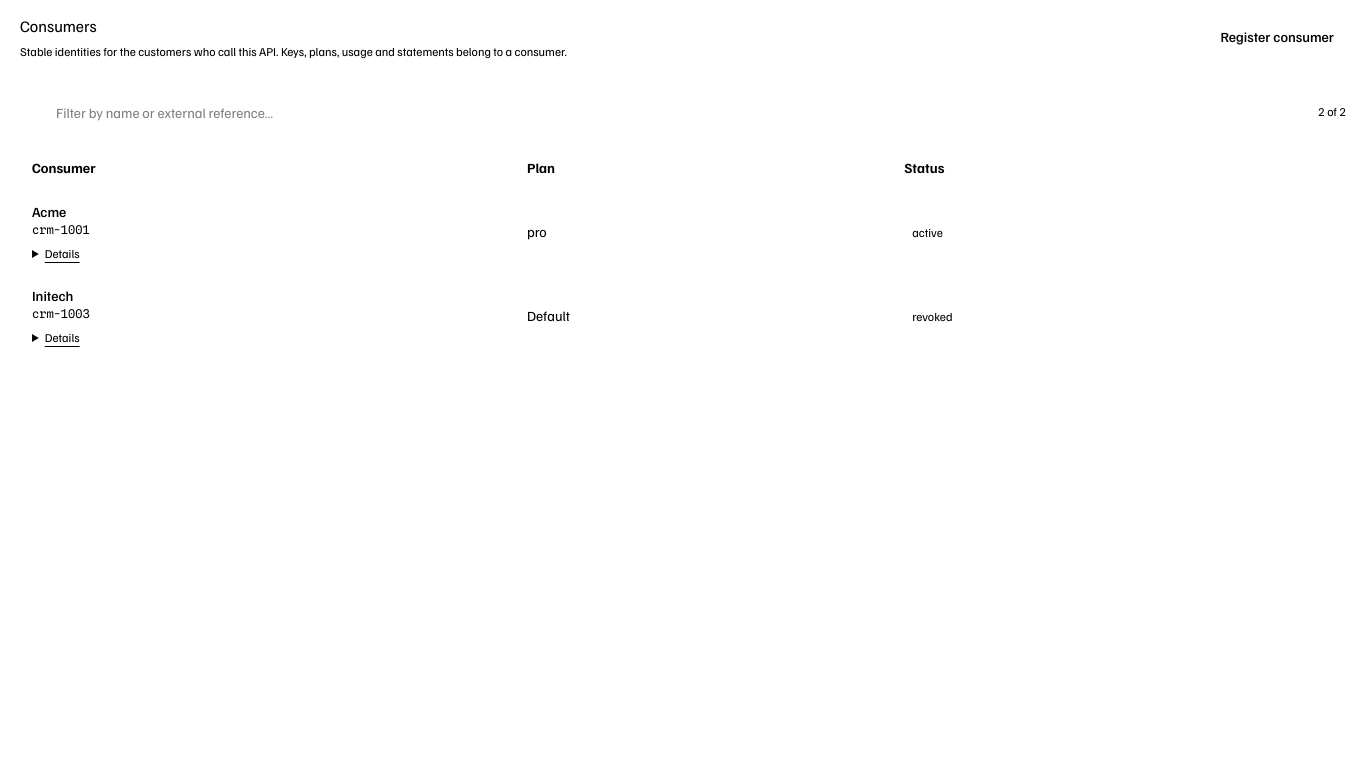
Scenario: ApiConsumers › registers a consumer and reports a duplicate reference as a conflict
Click the button "Register consumer" at (1267, 37), box [1188, 21, 1346, 53]
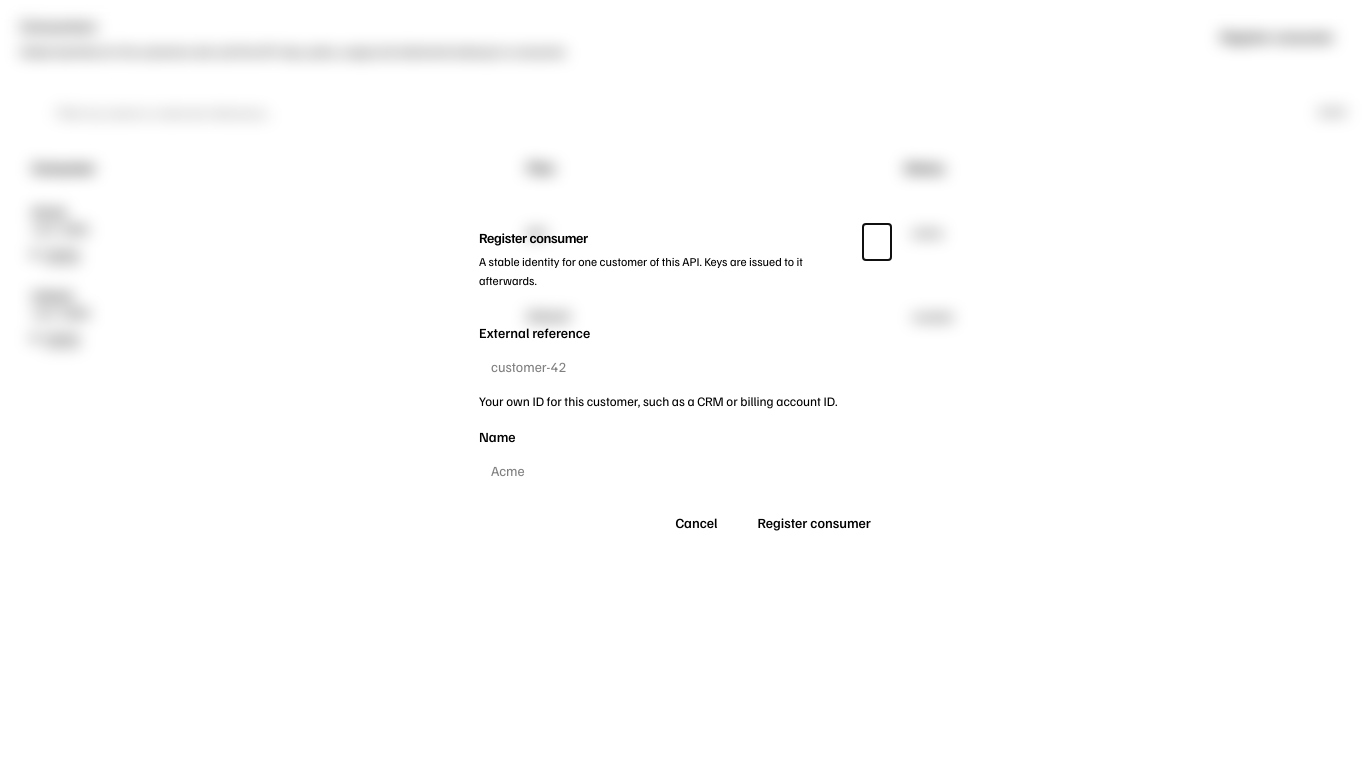
Type "crm-2000" into the field labelled "External reference" at (683, 366), box [479, 348, 887, 384]
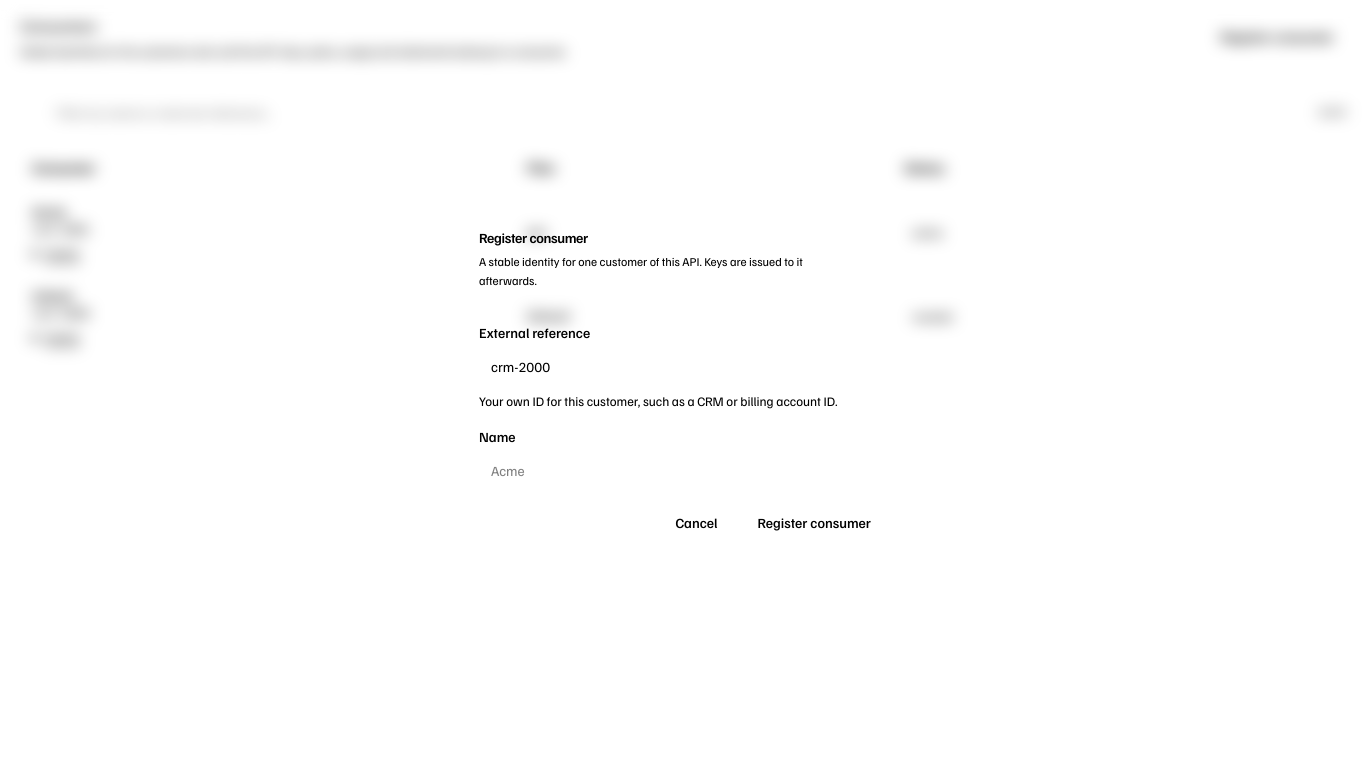
Type "Hooli" into the field labelled "Name" at (683, 470), box [479, 452, 887, 488]
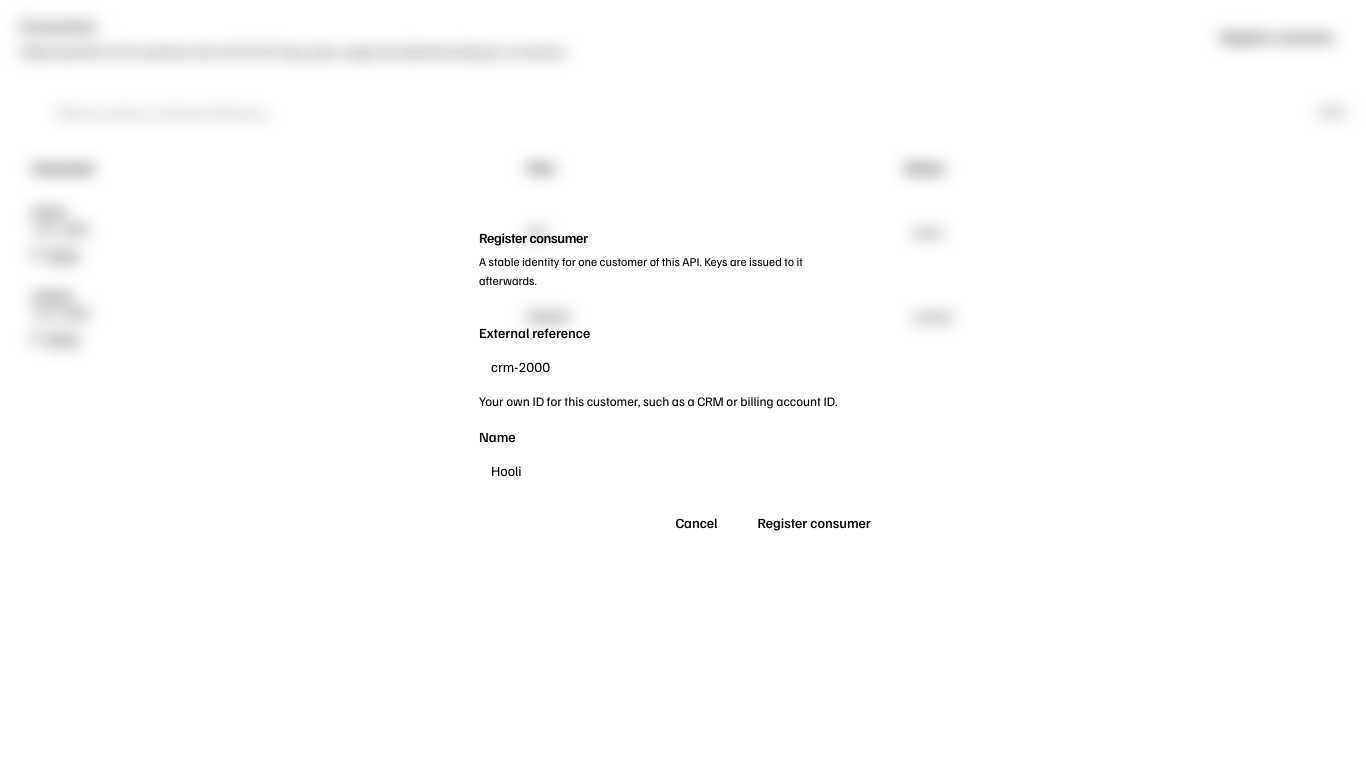
Click the button "Register consumer" at (814, 522), box [742, 504, 887, 540]
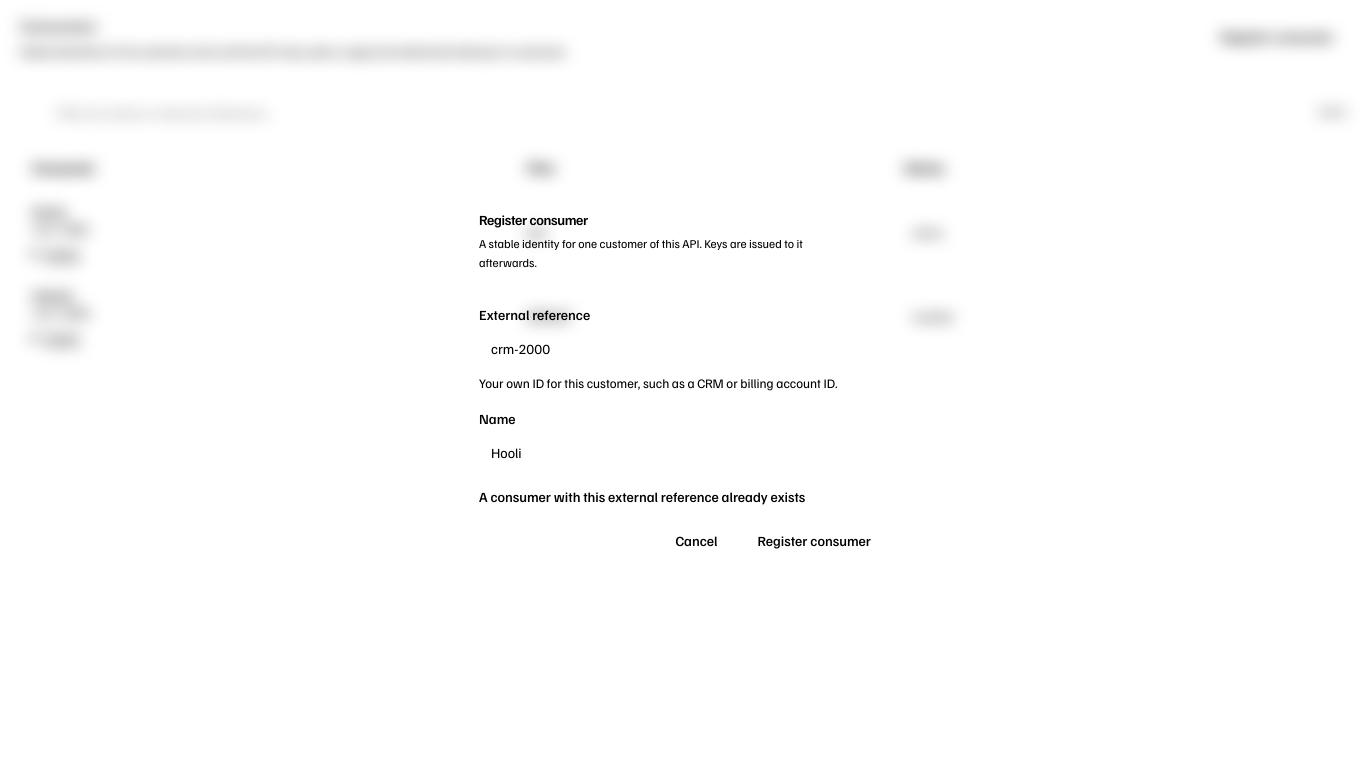
expect the message shows "already exists": met, box [479, 488, 805, 504]
Click the button "Register consumer" at (814, 540), box [742, 522, 887, 558]
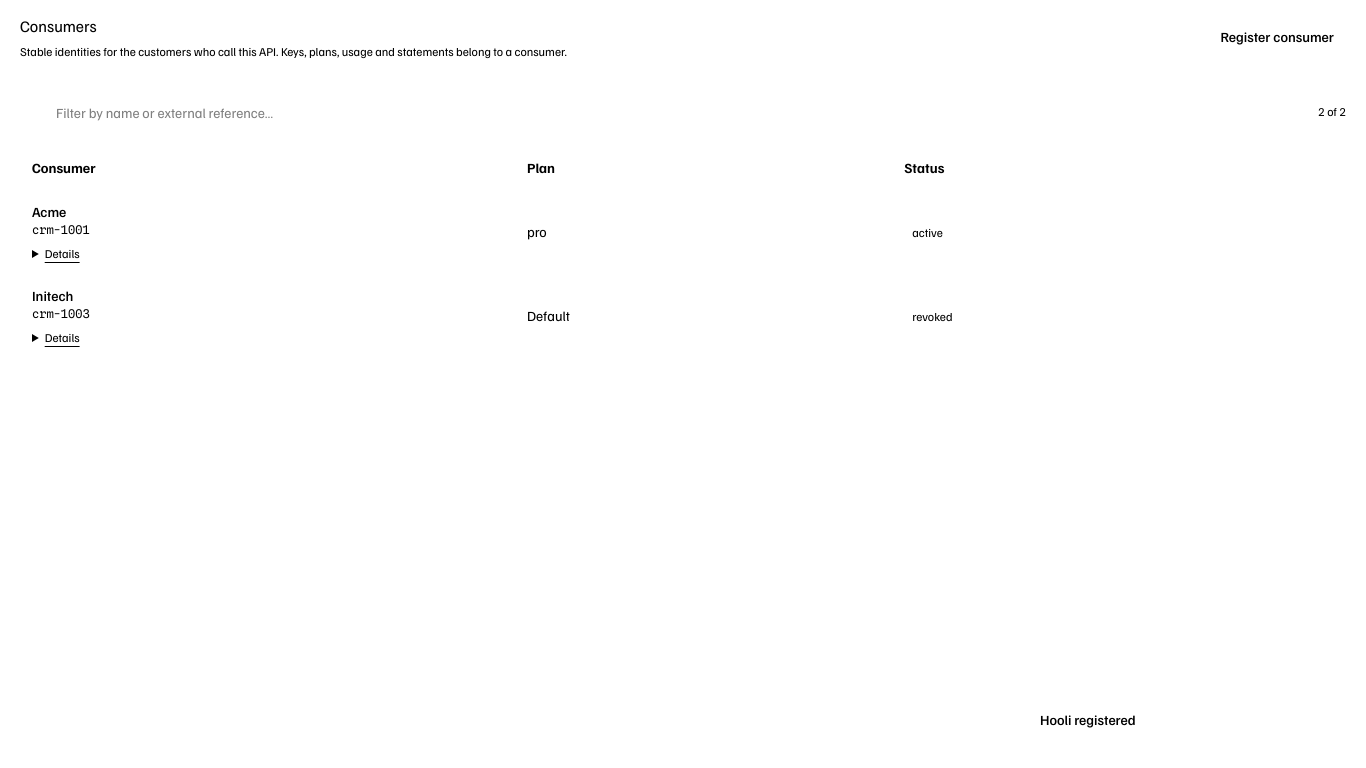
expect the dialog is gone: met
